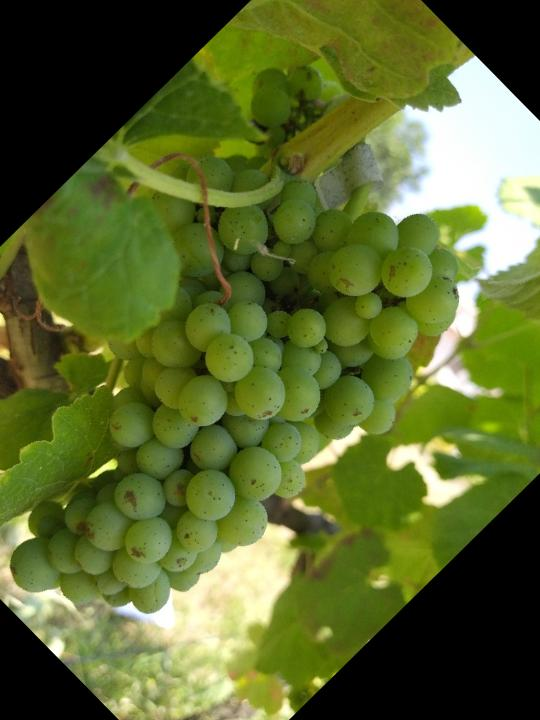grape: (0, 66, 523, 697)
